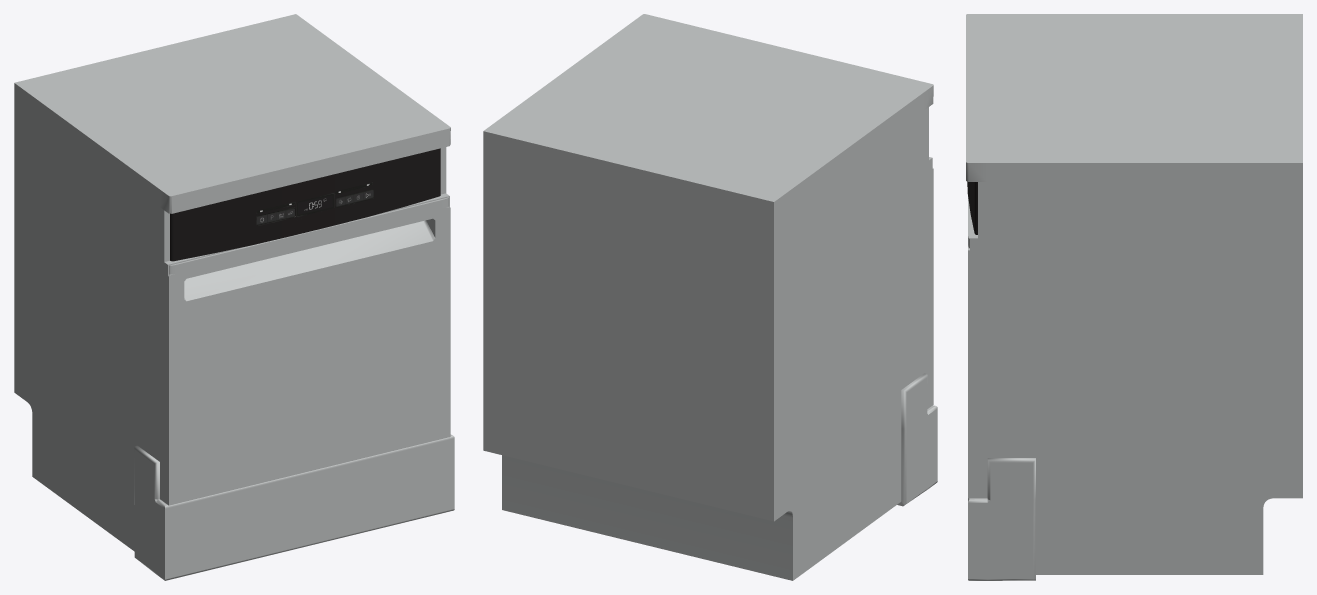
Rendered from lavavajilla3.glb.
The picture shows the model from 3 angles, left to right: view 1: azimuth 30°, elevation 25°; view 2: azimuth 150°, elevation 25°; view 3: azimuth 270°, elevation 25°; orthographic projection. The views are drawn at different scales.
Visible parts, largest first — view 1: Box001; view 2: Box001; view 3: Box001.
Part boxes in pixels (x1=…): Box001: x1=14, y1=14, x2=454, y2=580; Box001: x1=483, y1=14, x2=937, y2=580; Box001: x1=966, y1=14, x2=1302, y2=580.
Bounding box in the file's own units: 14.61 × 18.54 × 13.58.
Materials: 2 (2 with a texture image).
